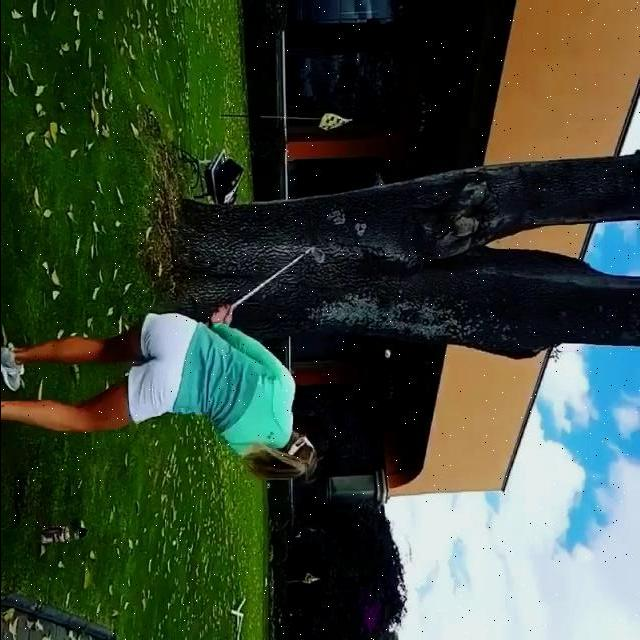ClubHandle: (231, 247, 324, 309)
ClubHead: (309, 247, 323, 263)
